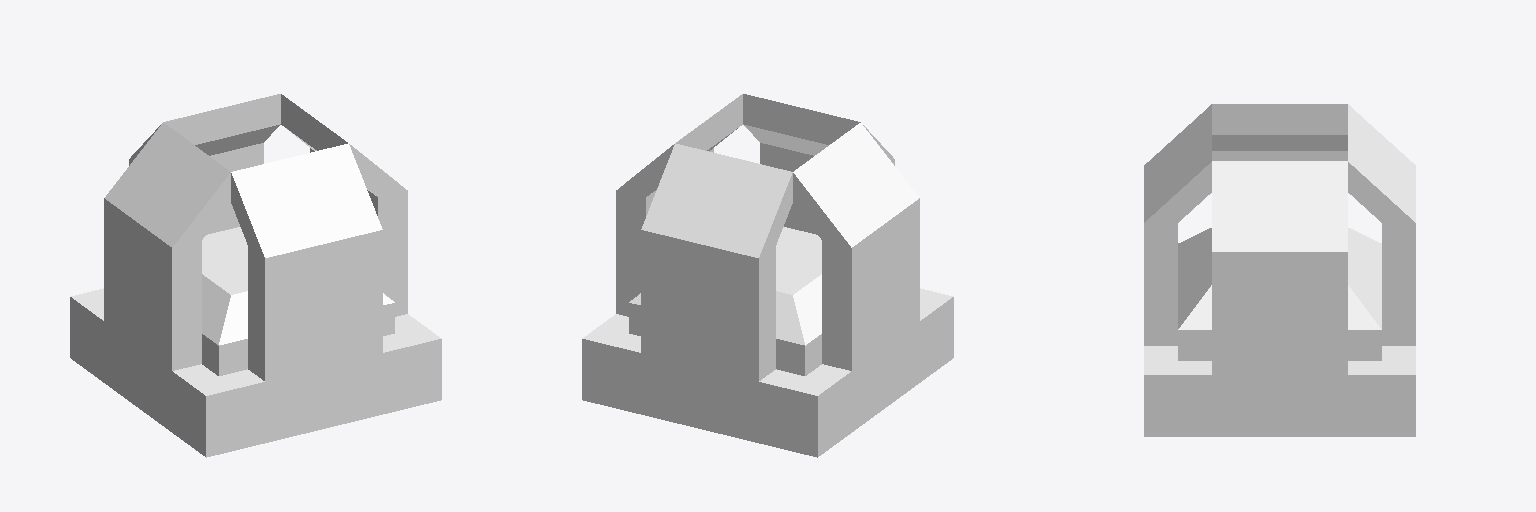
Rendered from rift_mover_output.obj.
3 views of the same model, side by side, from view 1: azimuth 30°, elevation 25°; view 2: azimuth 150°, elevation 25°; view 3: azimuth 270°, elevation 25° (orthographic).
Visible parts, largest first — view 1: Arms_Cube.008, Base_Plane, Main_Cube.002; view 2: Arms_Cube.008, Base_Plane, Main_Cube.002; view 3: Arms_Cube.008, Base_Plane, Main_Cube.002.
Boxes of the visible parts, box(x1,y1,x2,y2) form: Arms_Cube.008: box(104, 94, 407, 381); Base_Plane: box(70, 288, 441, 457); Main_Cube.002: box(202, 227, 394, 375); Arms_Cube.008: box(616, 94, 919, 381); Base_Plane: box(582, 288, 953, 457); Main_Cube.002: box(629, 227, 821, 375); Arms_Cube.008: box(1144, 104, 1415, 374); Base_Plane: box(1144, 346, 1415, 436); Main_Cube.002: box(1178, 228, 1381, 360).
Bounding box in the file's own units: 1 × 1 × 1.